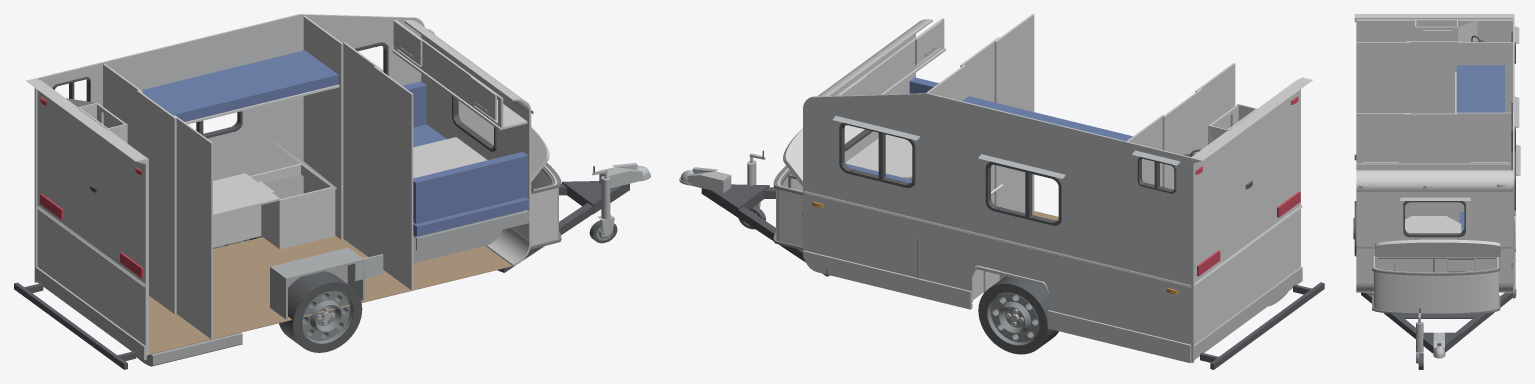
The model's file is CORTE INTERIOR D.glb.
3 renders of one model, left to right at view 1: azimuth 30°, elevation 25°; view 2: azimuth 150°, elevation 25°; view 3: azimuth 270°, elevation 25°, orthographic. The views are drawn at different scales.
Parts seen in each view (by area): view 1: Mesh_Mesh_head_geo.001_lambert2SG.001; view 2: Mesh_Mesh_head_geo.001_lambert2SG.001; view 3: Mesh_Mesh_head_geo.001_lambert2SG.001.
Boxes of the visible parts, x1,y1,x2,y2 form: Mesh_Mesh_head_geo.001_lambert2SG.001: (14,14,650,369); Mesh_Mesh_head_geo.001_lambert2SG.001: (679,14,1324,369); Mesh_Mesh_head_geo.001_lambert2SG.001: (1353,14,1520,369).
Bounding box in the file's own units: 0.312 × 0.122 × 0.107.
